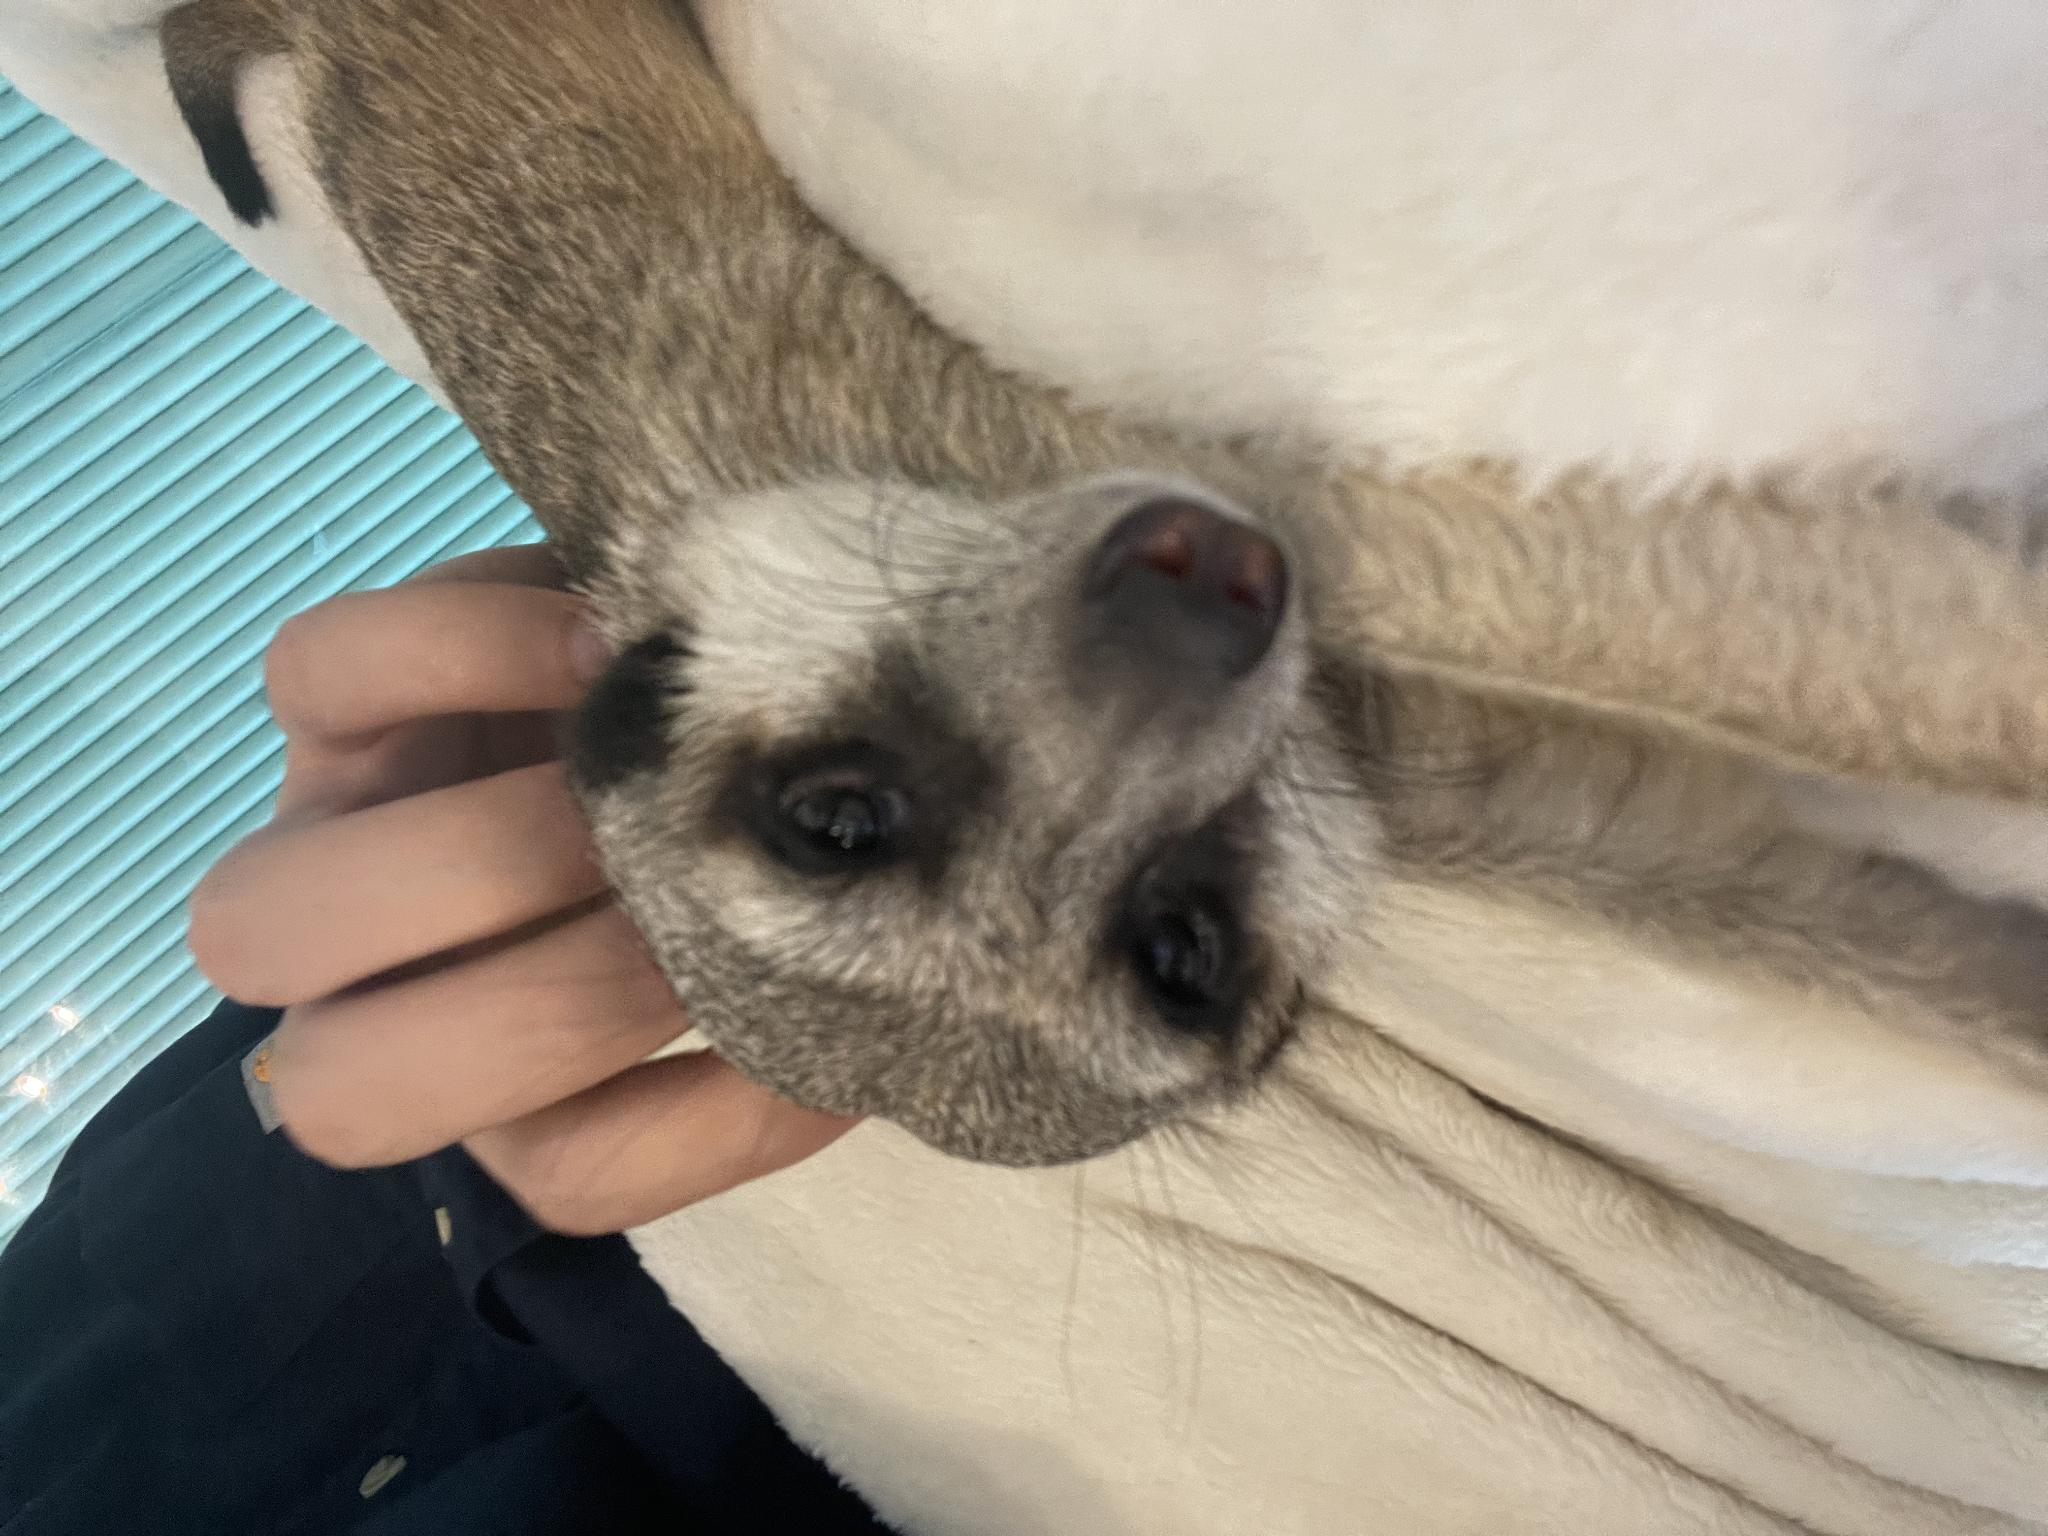meerkat: (108, 310, 1977, 1536)
